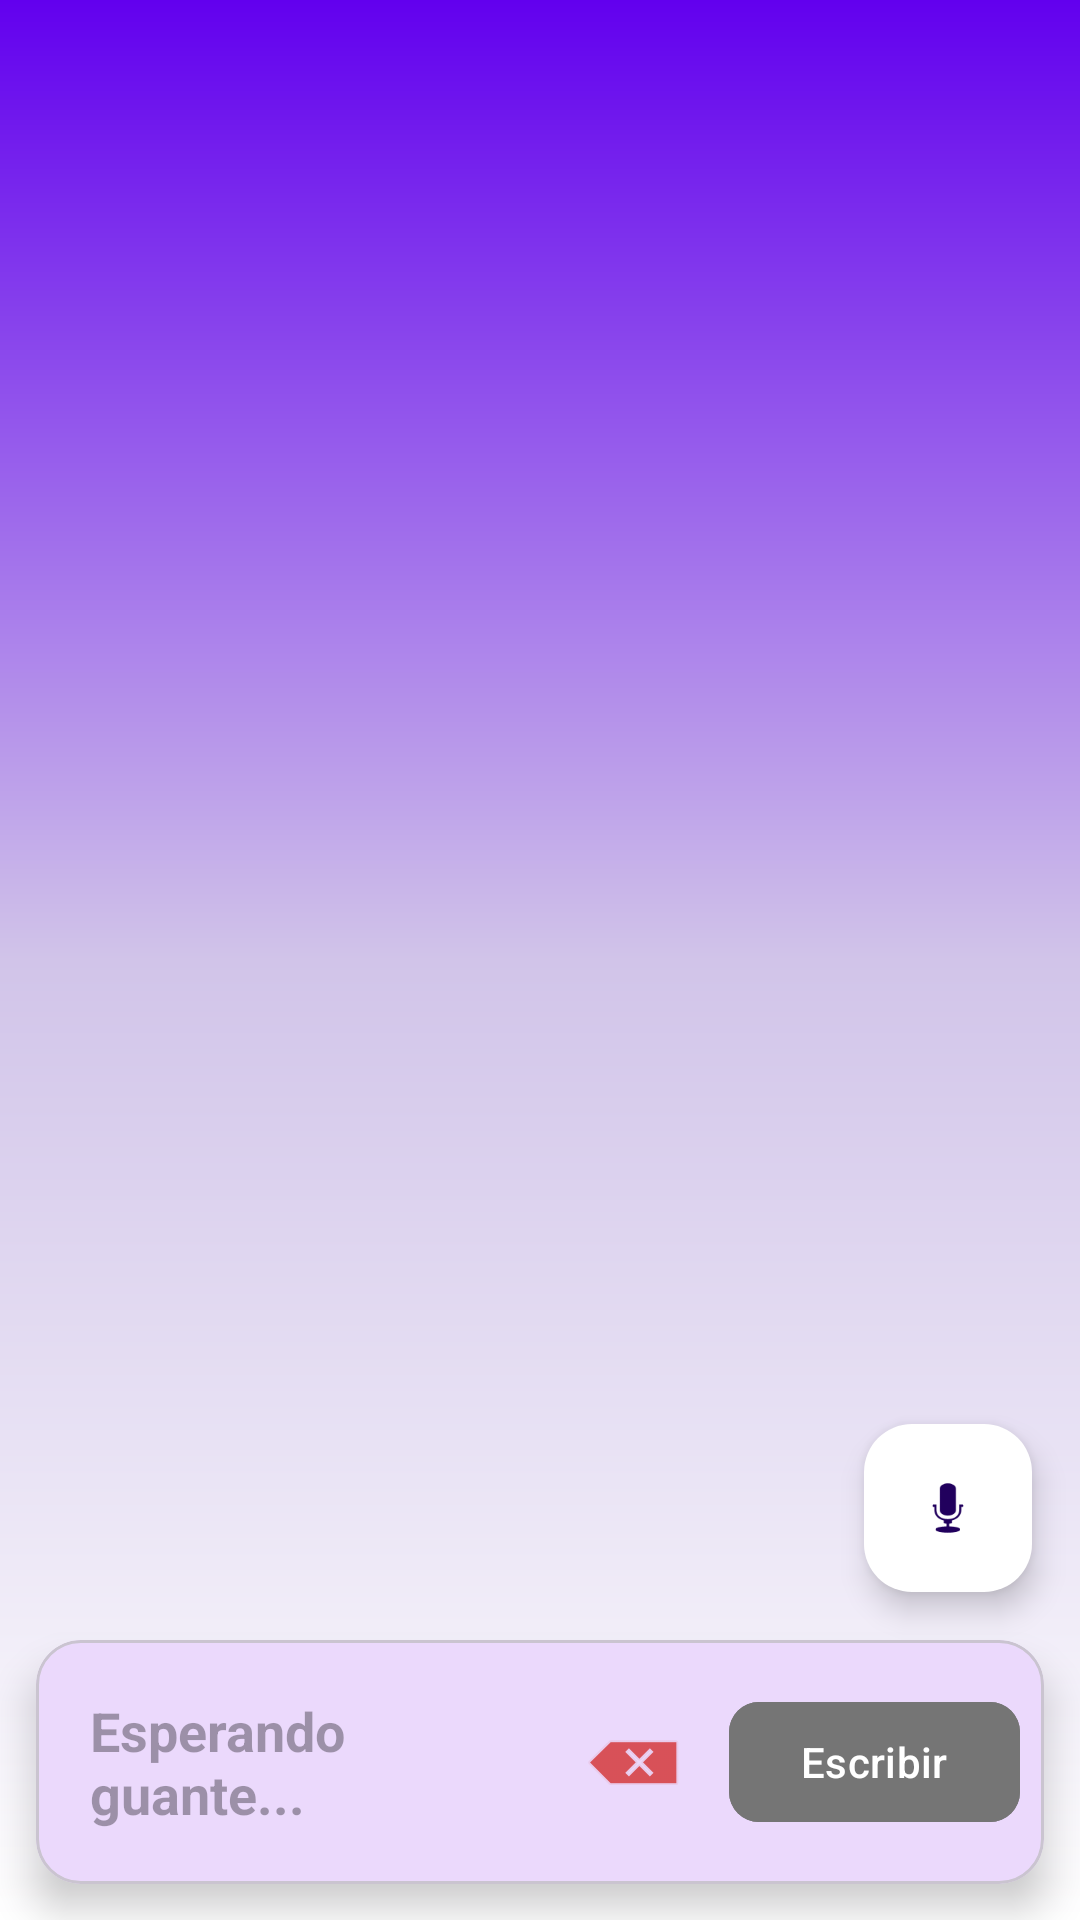

Point at icon controls on the screen. Image size 1080 × 1920, points as (x,y).
Borrar última letra: (633,1763)
Escuchar por micrófono: (948,1508)
